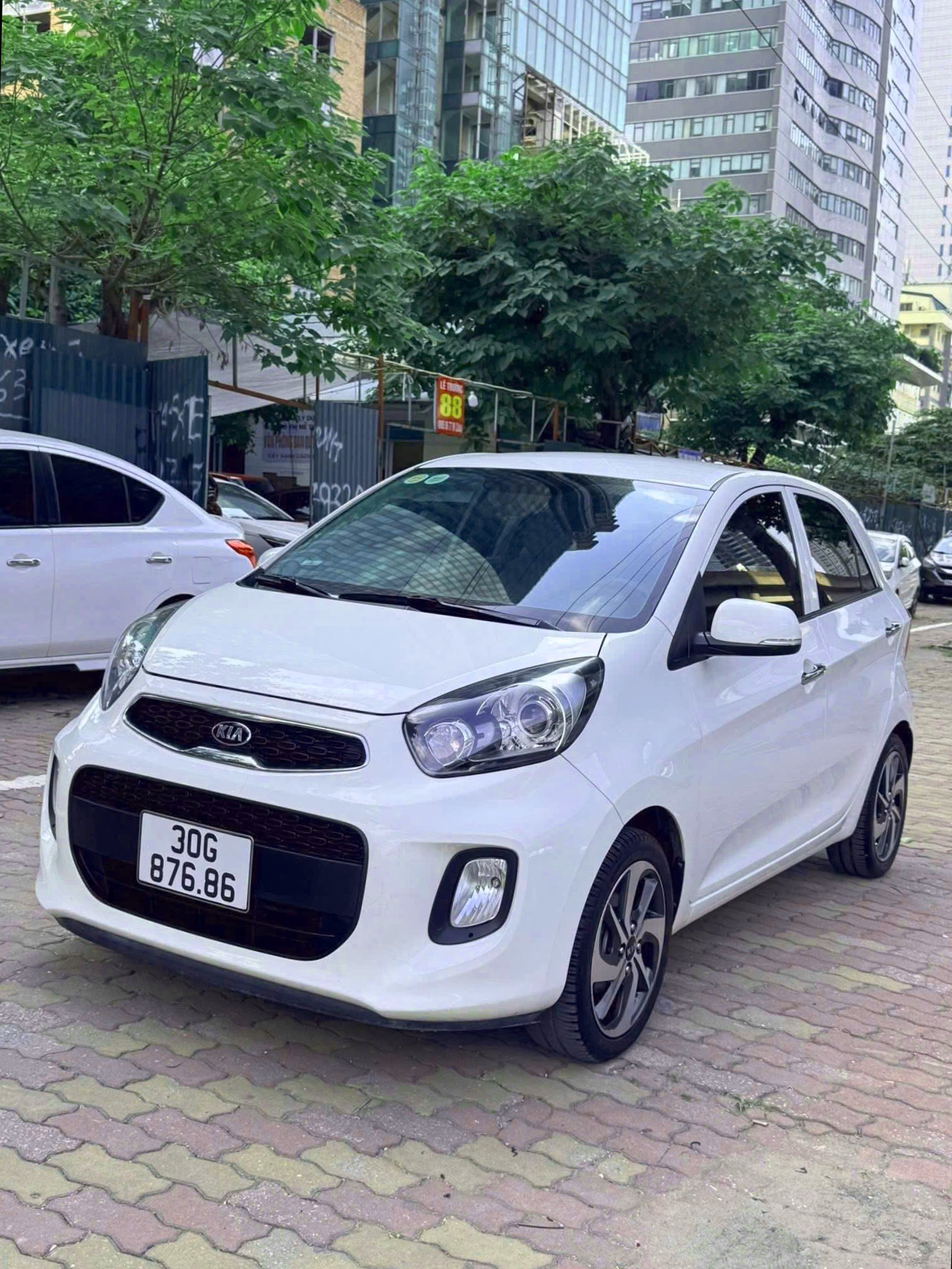Bien-so: (148, 804, 260, 895)
